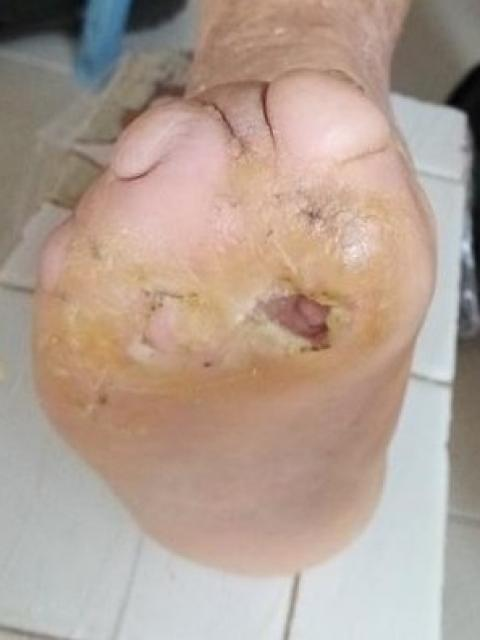wound: (240, 278, 346, 355), (132, 292, 180, 361), (286, 186, 338, 245)
